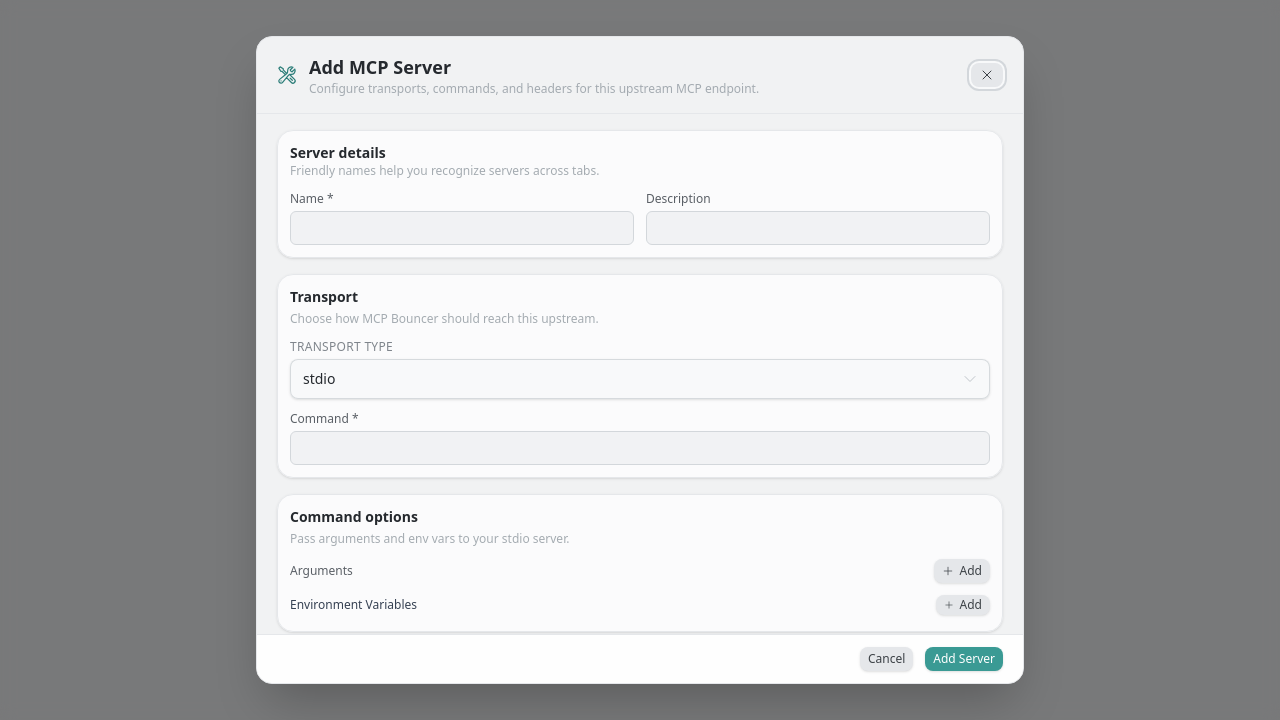
Scenario: ServerForm › switching transport shows endpoint input
Select "sse" in the dropdown: (640, 379) left=290, top=359, right=990, bottom=399
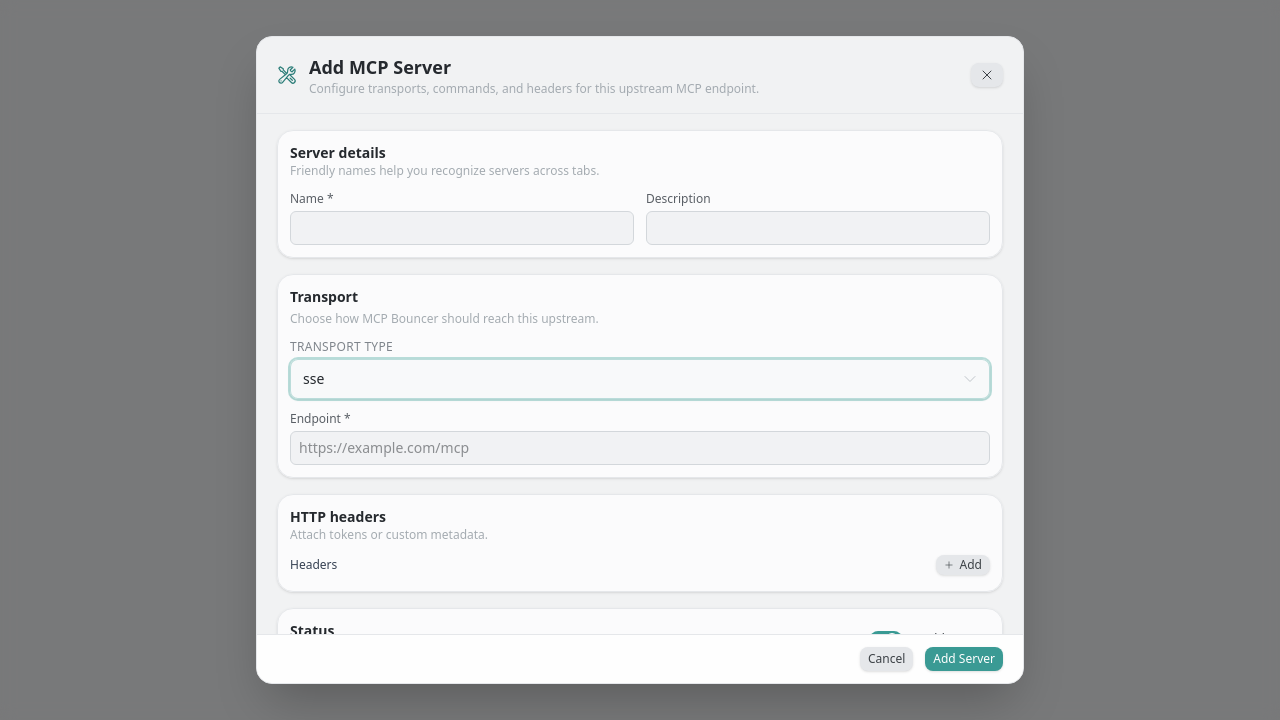
Expected: the field labelled "Endpoint *" is shown, left=290, top=431, right=990, bottom=465
